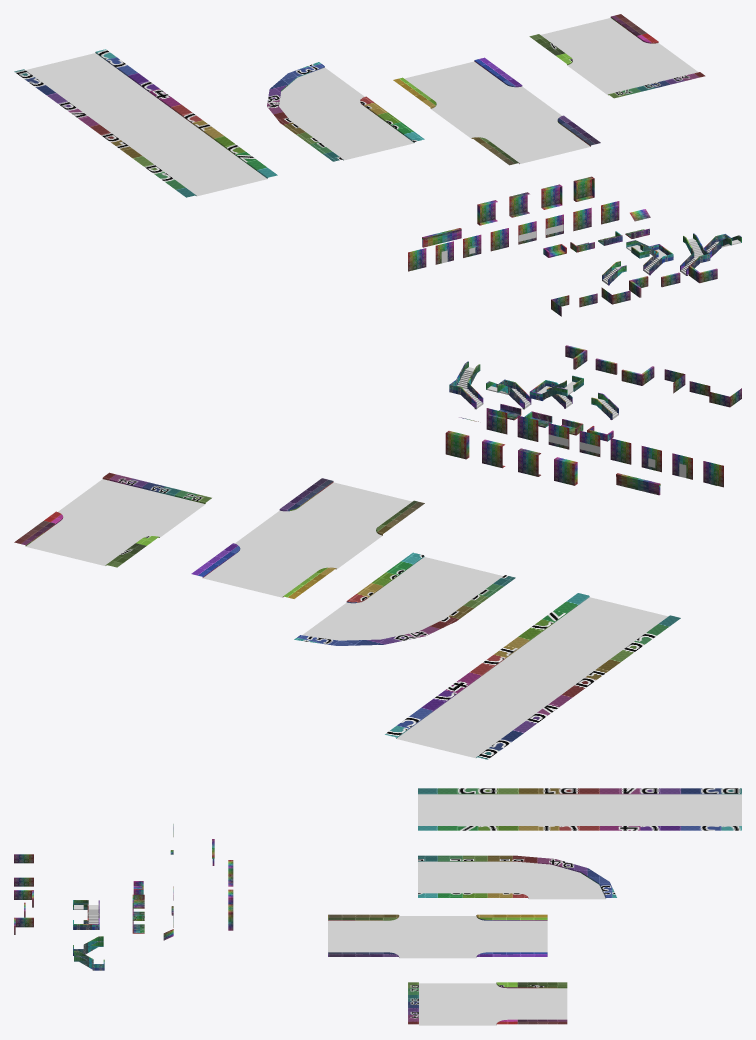
The model's file is Modular_building_set.glb.
3 renders of one model, top to bottom at view 1: azimuth 30°, elevation 25°; view 2: azimuth 150°, elevation 25°; view 3: azimuth 270°, elevation 25°, orthographic. The views are drawn at different scales.
Parts seen in each view (by area): view 1: road, road_4, road_R, road_3, stairs_v3, stair_v2_L; view 2: road, road_4, road_R, road_3, stairs_v3, stair_v2_R; view 3: road, road_4, road_R, road_3, stairs_v3.
Boxes of the visible parts, box(x1,y1,x2,y2) form: road: box(14, 49, 277, 197); road_4: box(393, 57, 600, 165); road_R: box(267, 62, 424, 161); road_3: box(529, 14, 705, 98); stairs_v3: box(626, 240, 673, 275); stair_v2_L: box(680, 233, 710, 275); road: box(385, 593, 680, 759); road_4: box(191, 478, 424, 598); road_R: box(294, 552, 515, 645); road_3: box(14, 472, 211, 567); stairs_v3: box(529, 375, 583, 408); stair_v2_R: box(449, 361, 483, 409); road: box(418, 788, 741, 830); road_4: box(328, 914, 547, 958); road_R: box(418, 855, 616, 899); road_3: box(408, 982, 567, 1025); stairs_v3: box(73, 900, 99, 929).
Size of the model in its own units: 112 by 8.2 by 146.
Materials: 44 (32 with a texture image).
